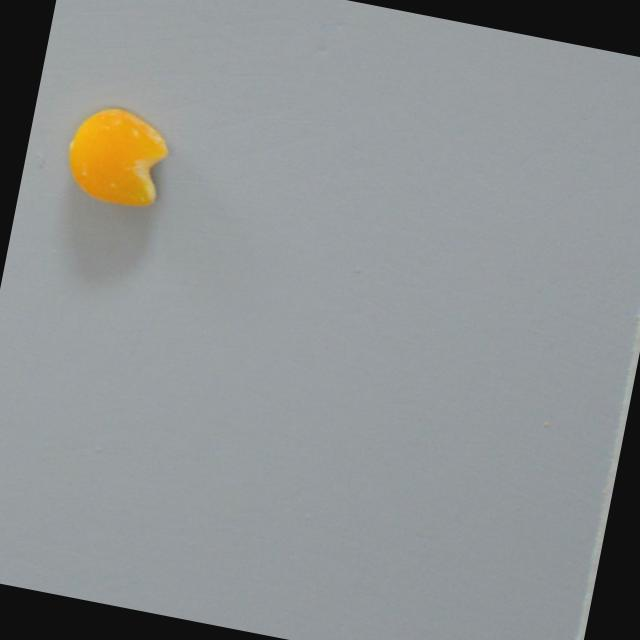pelicula: (57, 101, 174, 215)
